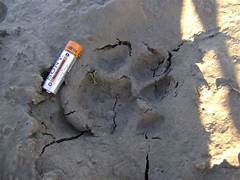puma: (76, 34, 179, 138)
